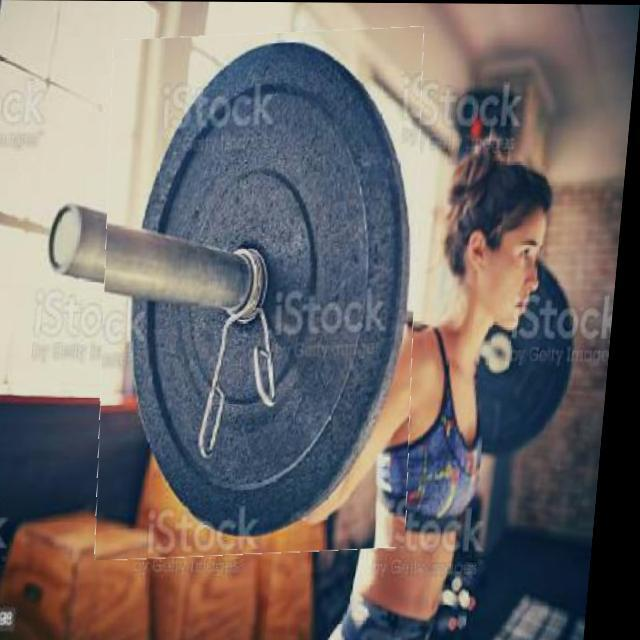barbell: (86, 29, 445, 559)
